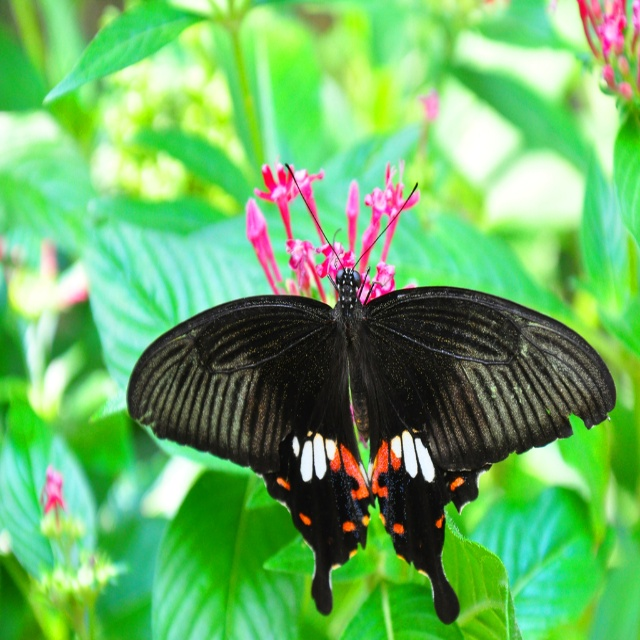Butterfly: (121, 136, 612, 603)
